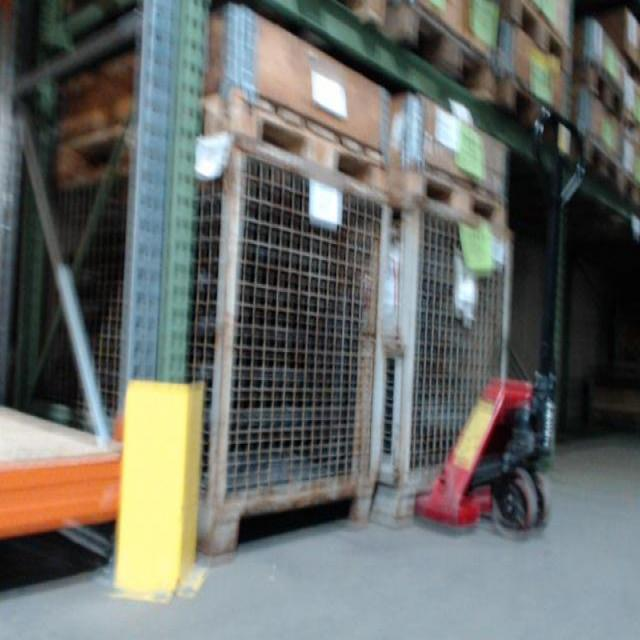pallet: (54, 87, 384, 192), (372, 2, 494, 96), (385, 151, 506, 233), (485, 73, 569, 153), (500, 3, 569, 64), (291, 2, 394, 35), (580, 57, 624, 120), (576, 126, 624, 183)
pallet_truck: (409, 96, 593, 532)
stillage: (17, 124, 378, 561), (361, 173, 537, 535)
